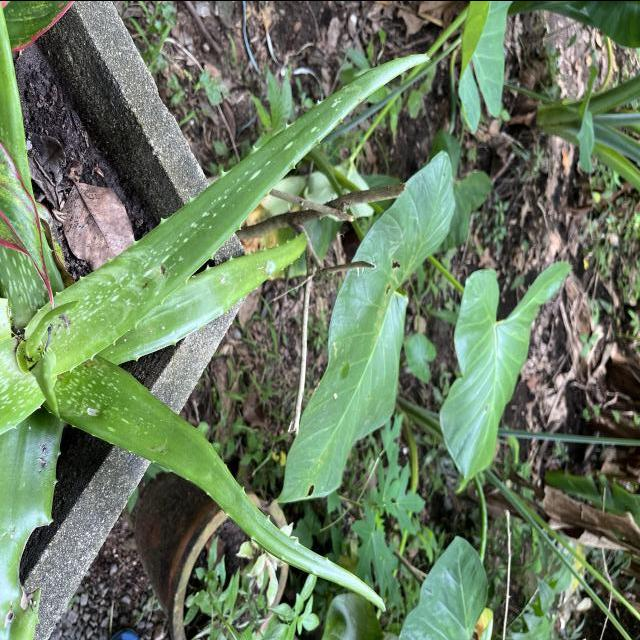Aloe vera: (21, 41, 436, 373), (54, 358, 392, 610)
